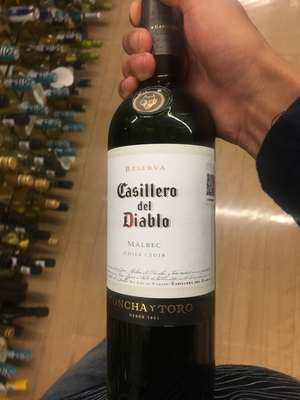casillero del diablo malbec: (88, 29, 230, 400)
